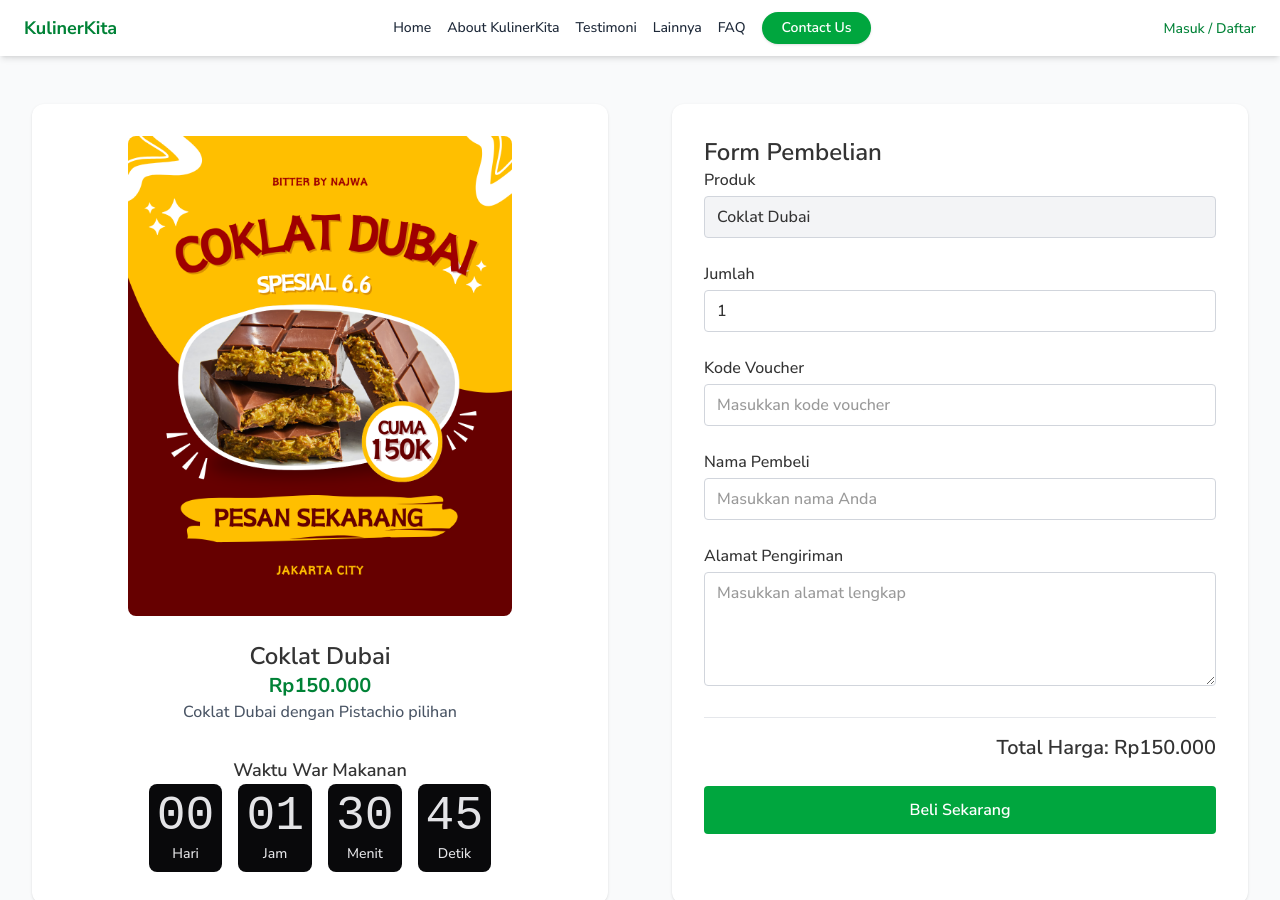
Test: SimulasiWar Component › Update quantity dan total harga sesuai input
Replace the text in the number field labelled "Jumlah" with "2". click: coordinates (960, 311)
box: [704, 290, 1216, 332]
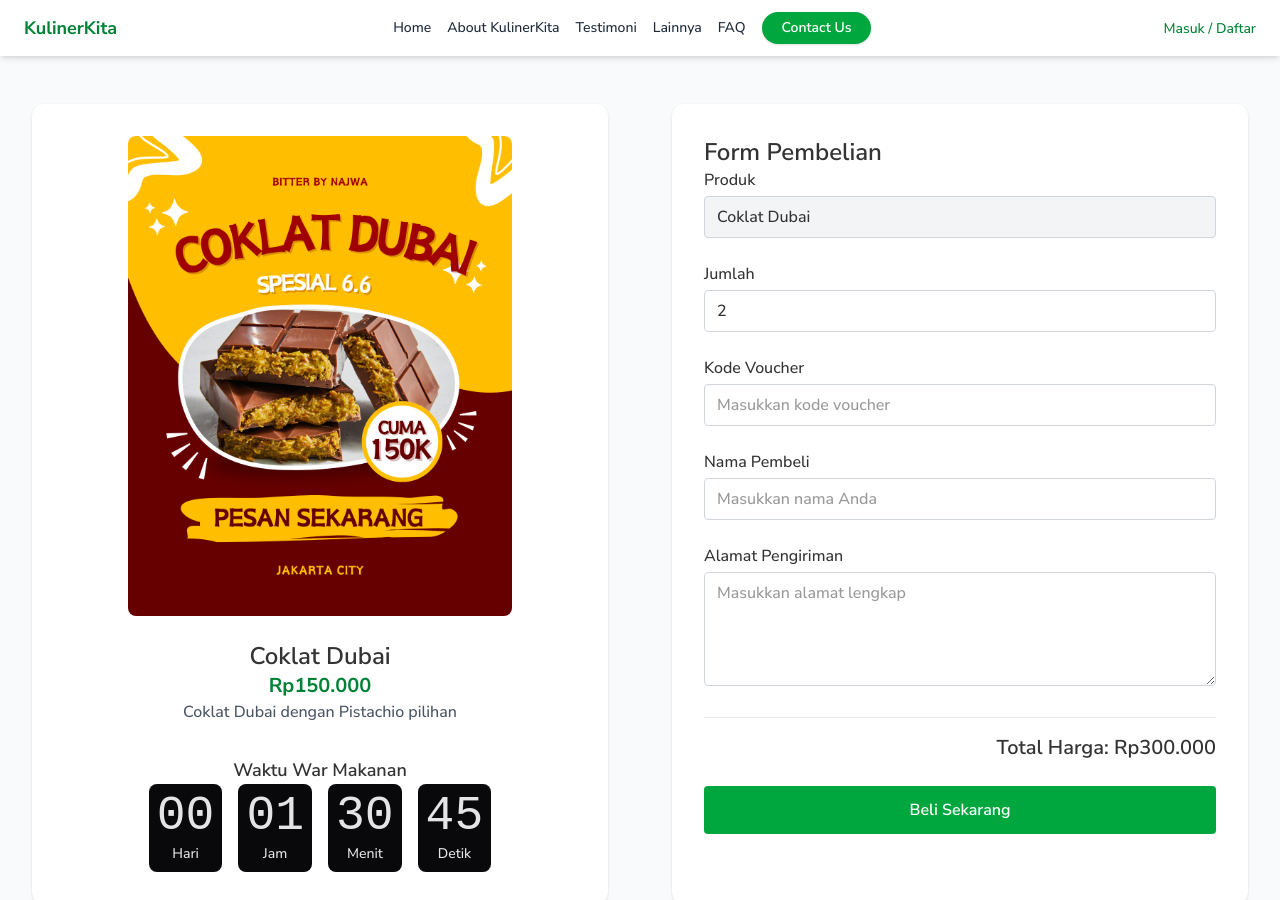
Expected: the text "Total Harga: Rp300.000" is shown, [704, 717, 1216, 762]
